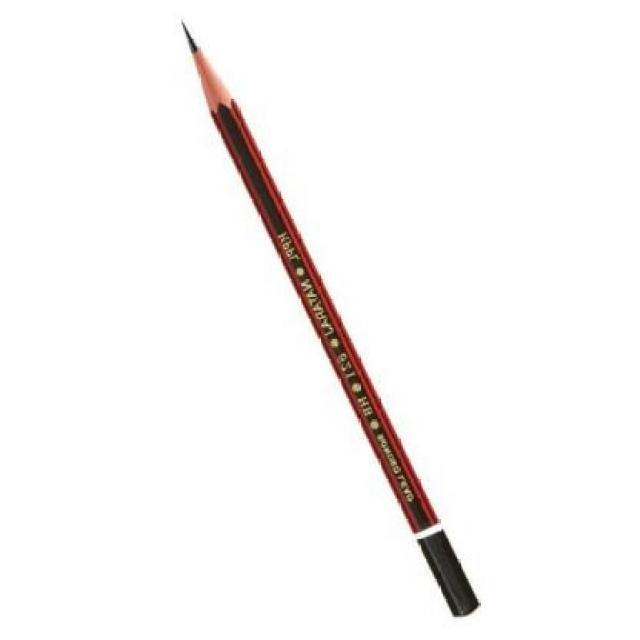pencil: (171, 18, 251, 140)
